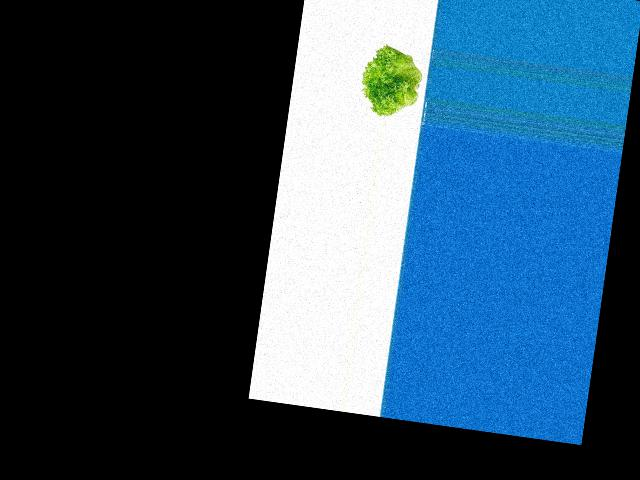lettuce: (355, 44, 429, 121)
